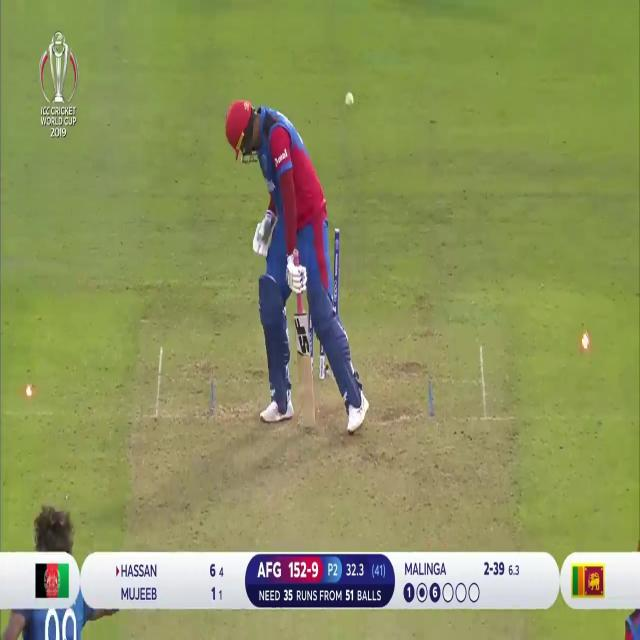ball: (344, 89, 356, 108)
